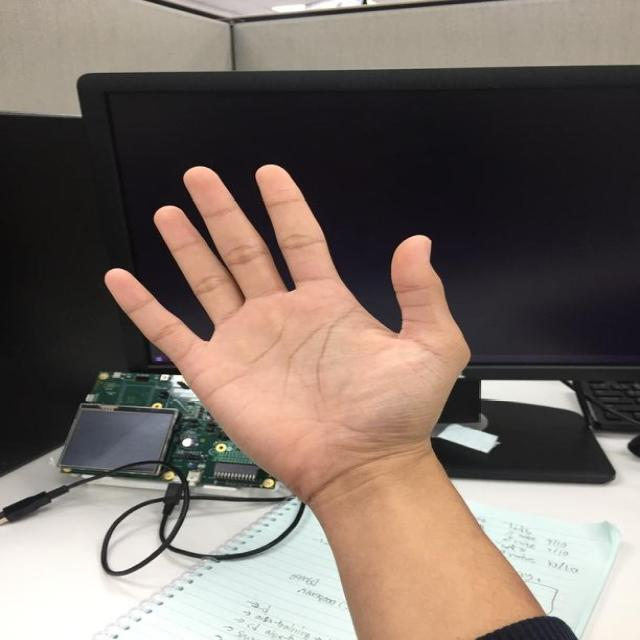hand: (103, 159, 475, 482)
